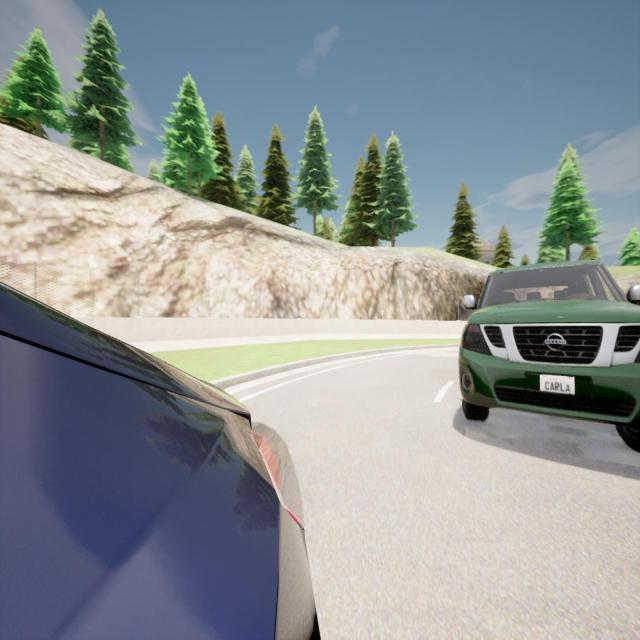Vehicle: (0, 282, 322, 639), (459, 262, 639, 451)
